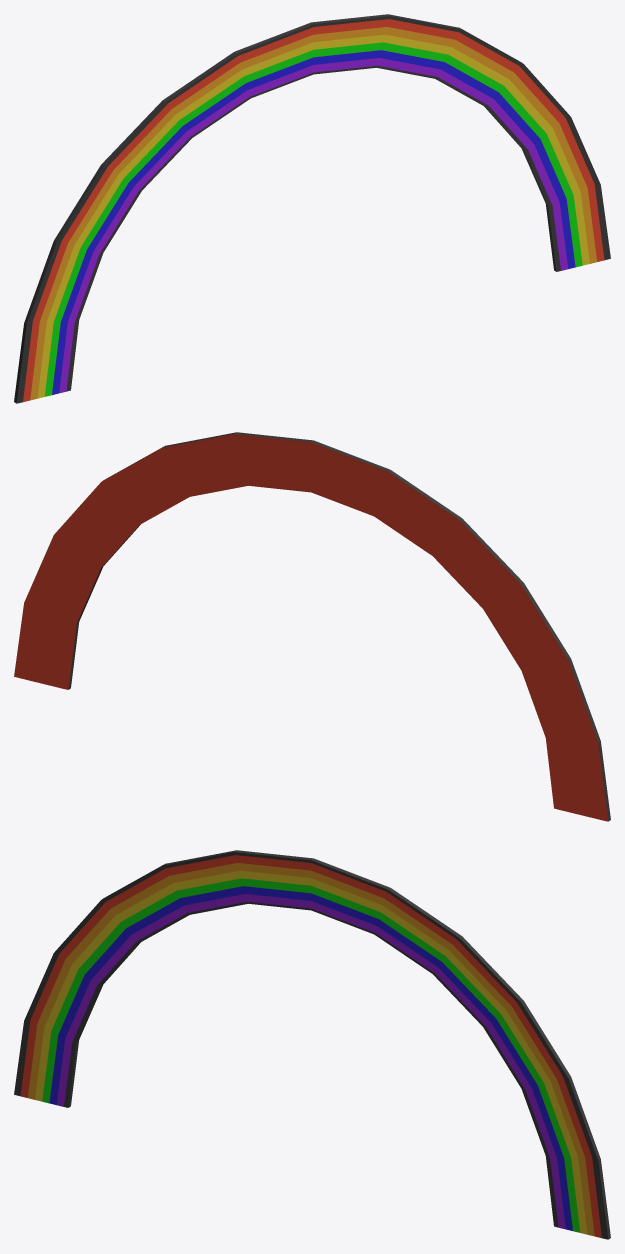
The model's file is rainbow.fbx.
3 views of the same model, one above another, from view 1: azimuth 30°, elevation 25°; view 2: azimuth 150°, elevation 25°; view 3: azimuth 330°, elevation 25° (orthographic).
Parts seen in each view (by area): view 1: Rainbow; view 2: Rainbow; view 3: Rainbow.
Part boxes in pixels (x1,y1,x2,y2): Rainbow: [14, 14, 610, 403]; Rainbow: [14, 432, 610, 821]; Rainbow: [14, 850, 610, 1239].
Size of the model in its own units: 2346 by 17.48 by 1158.
